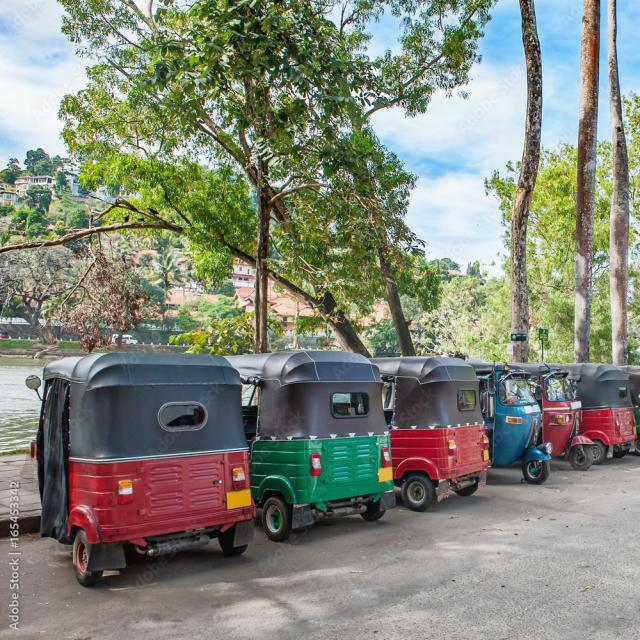three wheeler: (32, 353, 276, 587), (228, 351, 394, 541), (371, 357, 488, 511), (469, 359, 550, 485), (509, 364, 591, 483), (551, 363, 636, 465)
